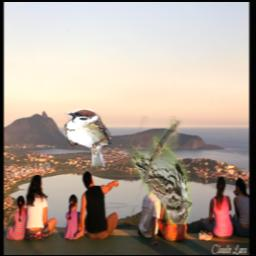Sparrow: (107, 116, 192, 224), (64, 110, 112, 168)
